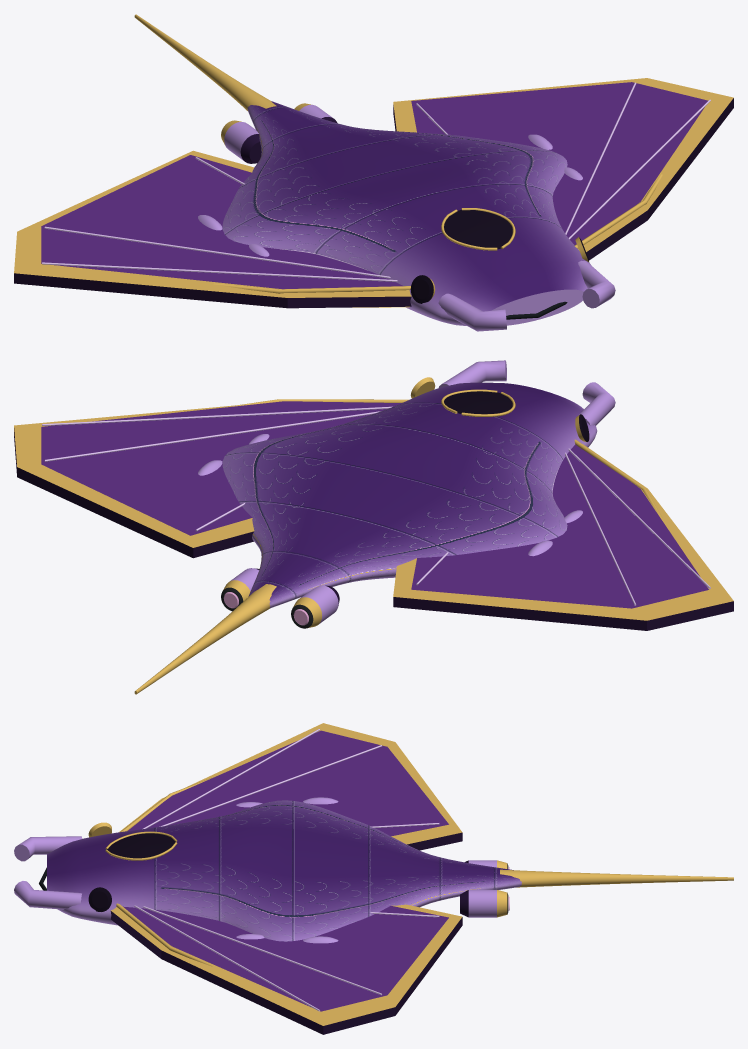
3 renders of one model, top to bottom at view 1: azimuth 30°, elevation 25°; view 2: azimuth 150°, elevation 25°; view 3: azimuth 270°, elevation 25°, orthographic. The views are drawn at different scales.
Parts seen in each view (by area): view 1: manta_ray_hull; view 2: manta_ray_hull; view 3: manta_ray_hull.
Part boxes in pixels (x1=…): manta_ray_hull: x1=14, y1=14, x2=733, y2=331; manta_ray_hull: x1=14, y1=360, x2=733, y2=694; manta_ray_hull: x1=14, y1=723, x2=733, y2=1034.
Size of the model in its own units: 81.66 by 9.18 by 82.
1 material, 1 textured.
